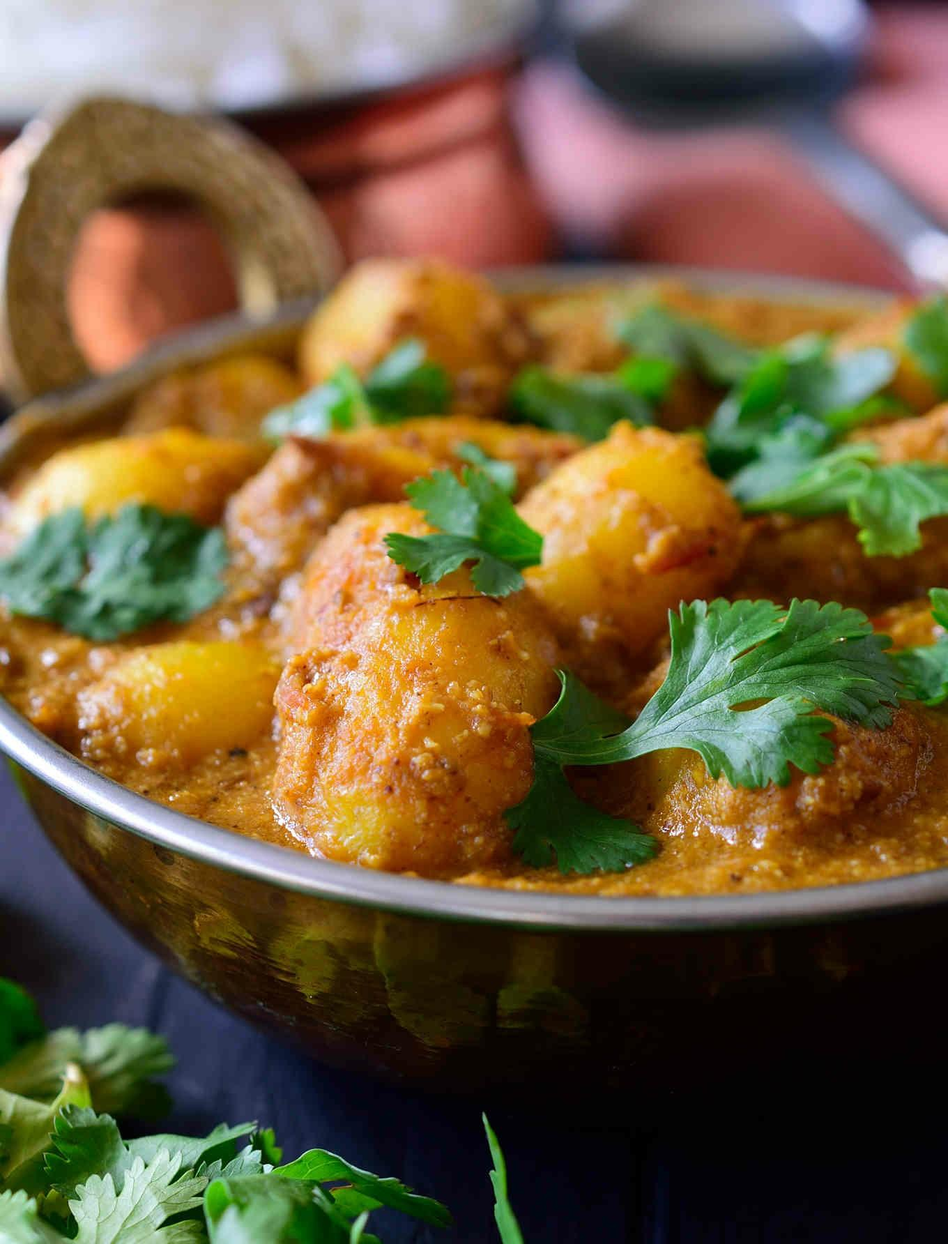DumAloo: (0, 251, 948, 906)
